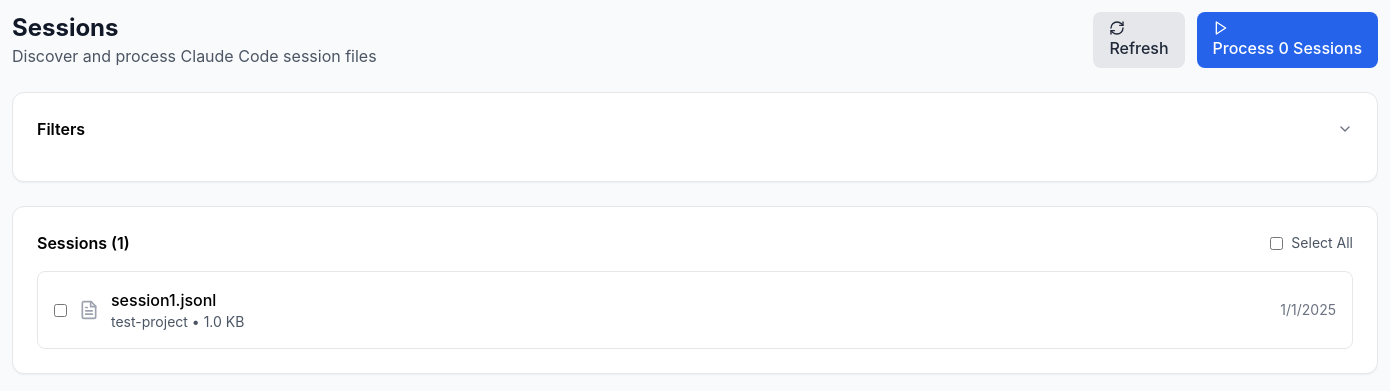
Test case: SessionsPage › session selection › should allow selecting sessions
Expected: the text "session1.jsonl" is shown, [111, 290, 216, 310]
Click the text "session1.jsonl".
click(695, 310)  # box [37, 271, 1353, 349]
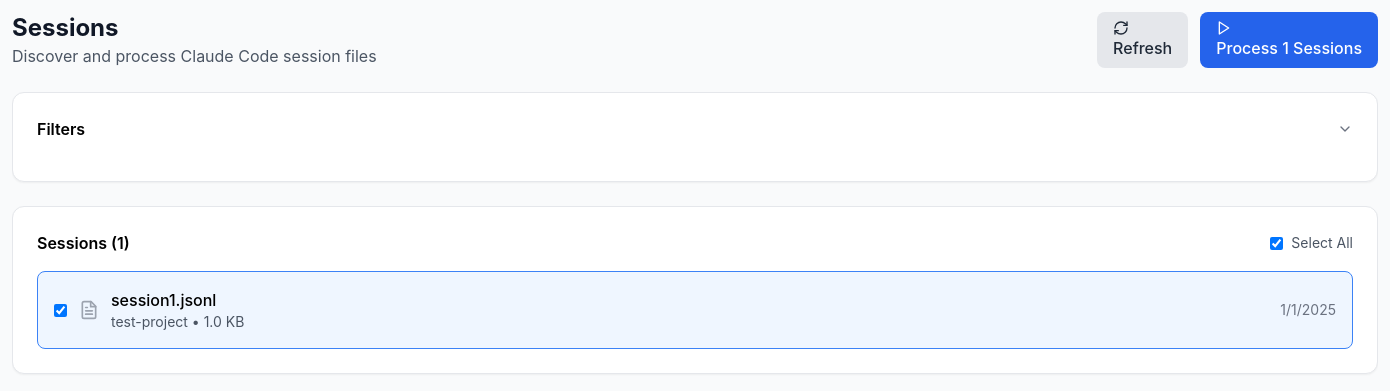
Result: the button "Process 1 Sessions" is shown at [1200, 12, 1378, 68]
